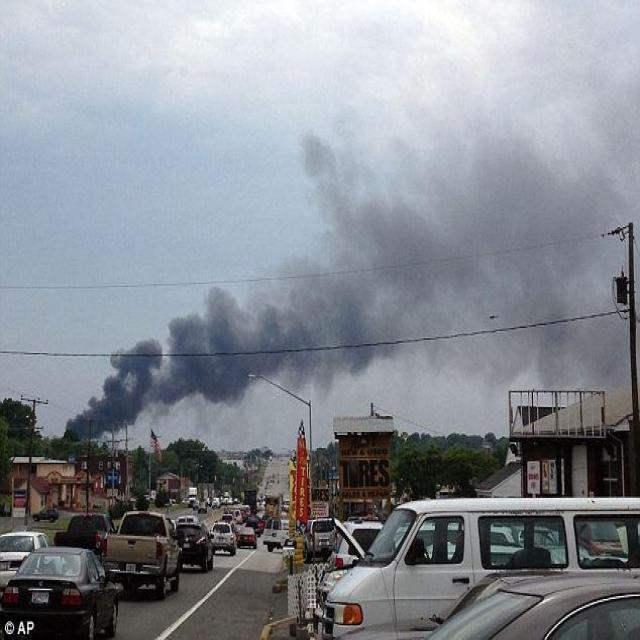Smoke: (59, 127, 640, 443)
